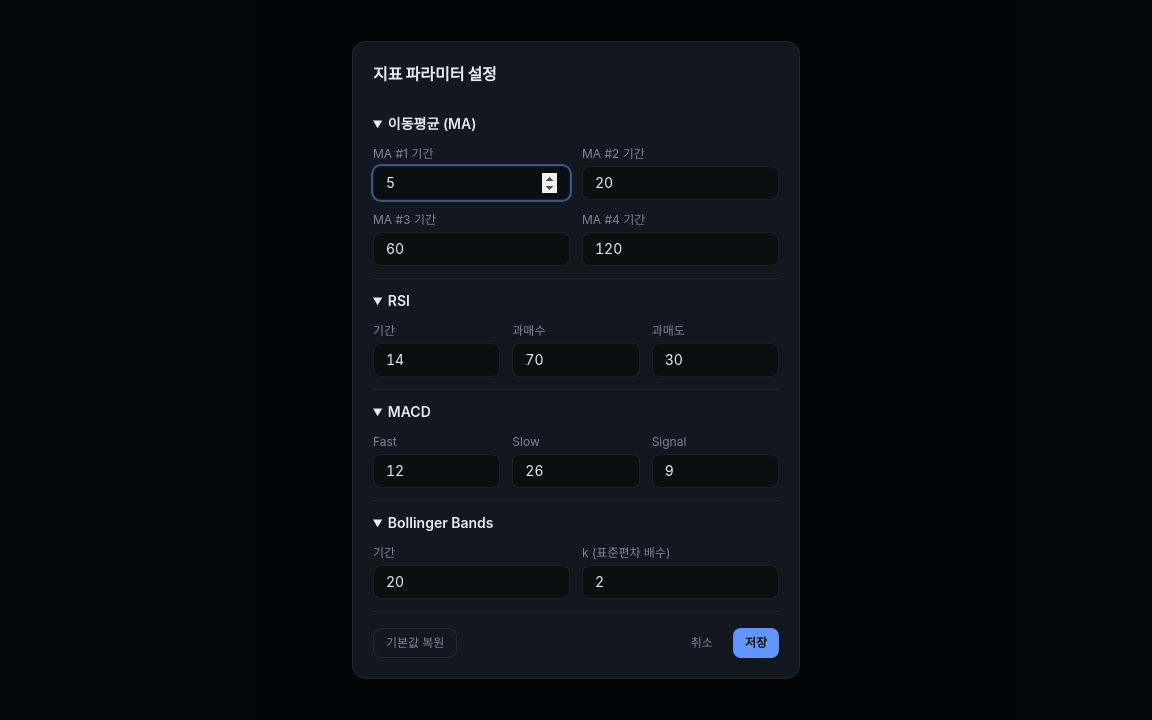
Test: IndicatorParametersDrawer › 기본값 복원 → 편집값이 DEFAULT_PARAMS 로 되돌아간다
The width and height of the screenshot is (1152, 720).
Clear the number field labelled "MA #1 기간" at point(472, 183), box x1=373 y1=166 x2=570 y2=200
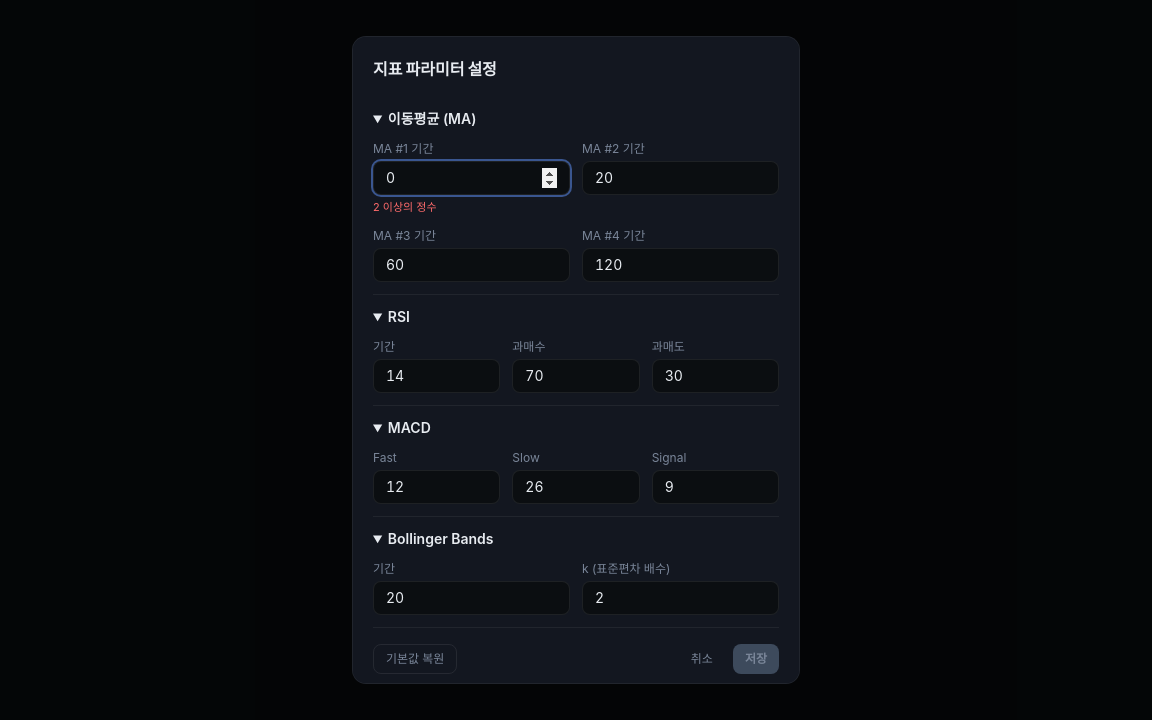
Type "99" into the number field labelled "MA #1 기간".
click(472, 178); type("99")  # box x1=373 y1=161 x2=570 y2=195
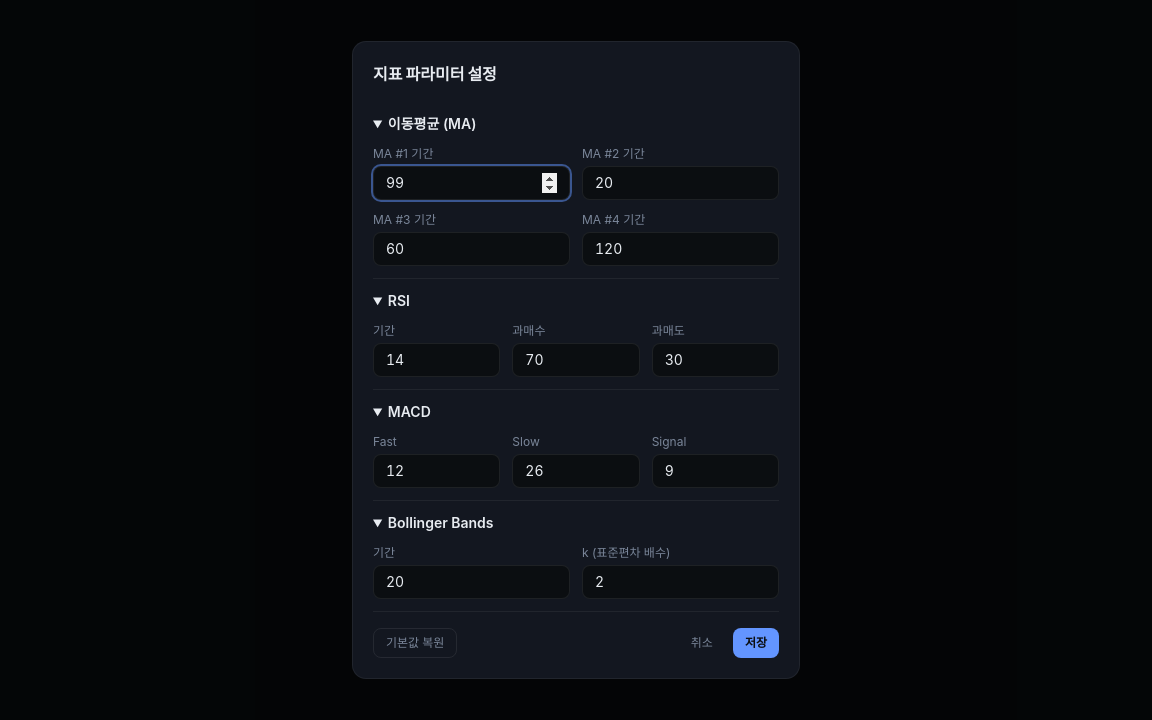
Click the button "기본값 복원".
click(415, 643)  # box x1=373 y1=628 x2=457 y2=658
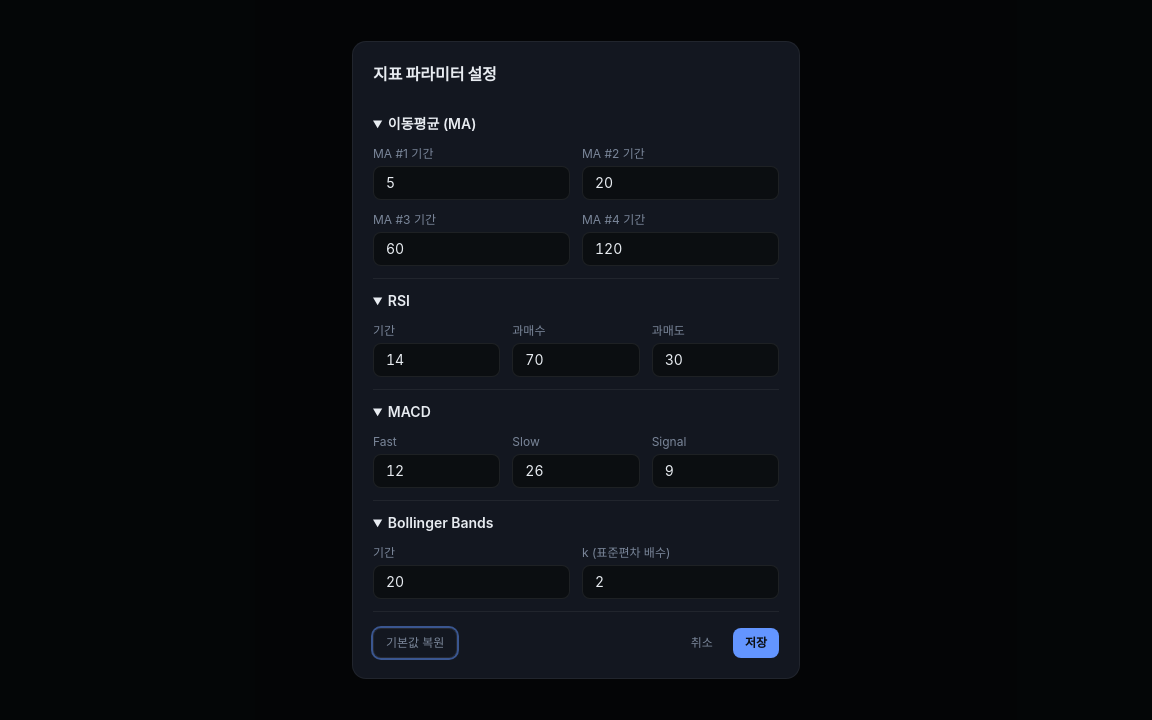
Expected: the number field labelled "k (표준편차 배수)" holds "2", x1=582 y1=565 x2=779 y2=599
Result: the number field labelled "MA #1 기간" holds "5" at x1=373 y1=166 x2=570 y2=200
